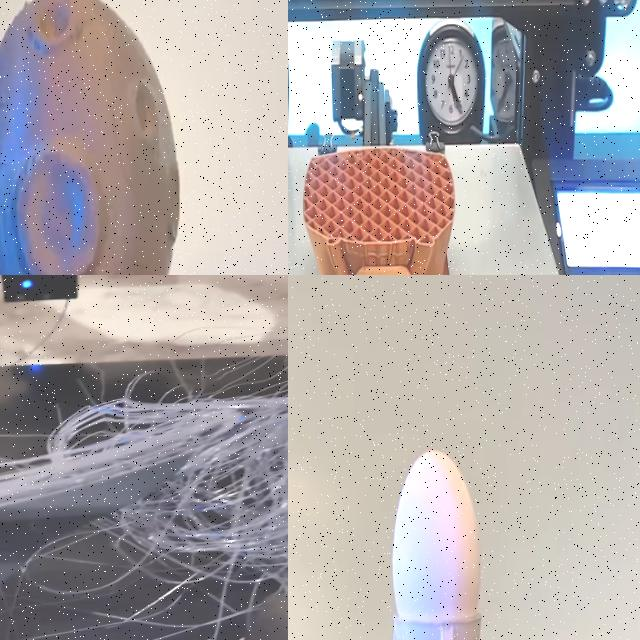spaghetti: (47, 377, 288, 579)
